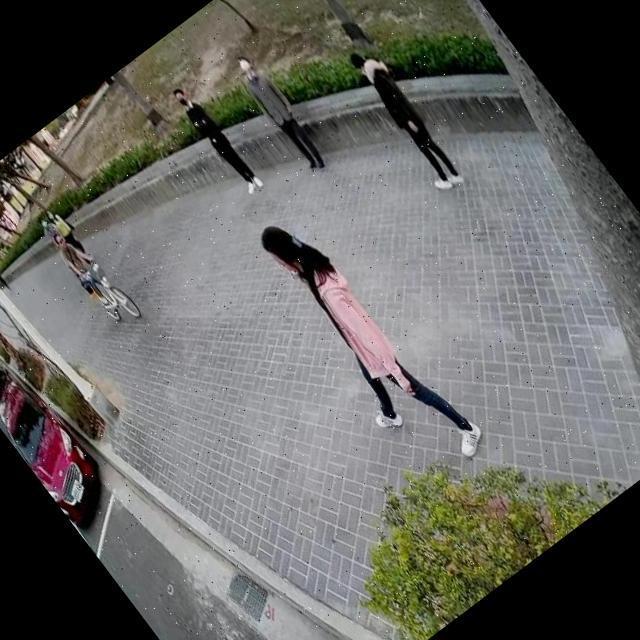person: (236, 190, 496, 496), (335, 32, 476, 200), (224, 45, 338, 182), (166, 76, 270, 200), (45, 219, 126, 314), (42, 198, 98, 266), (32, 209, 69, 251)
